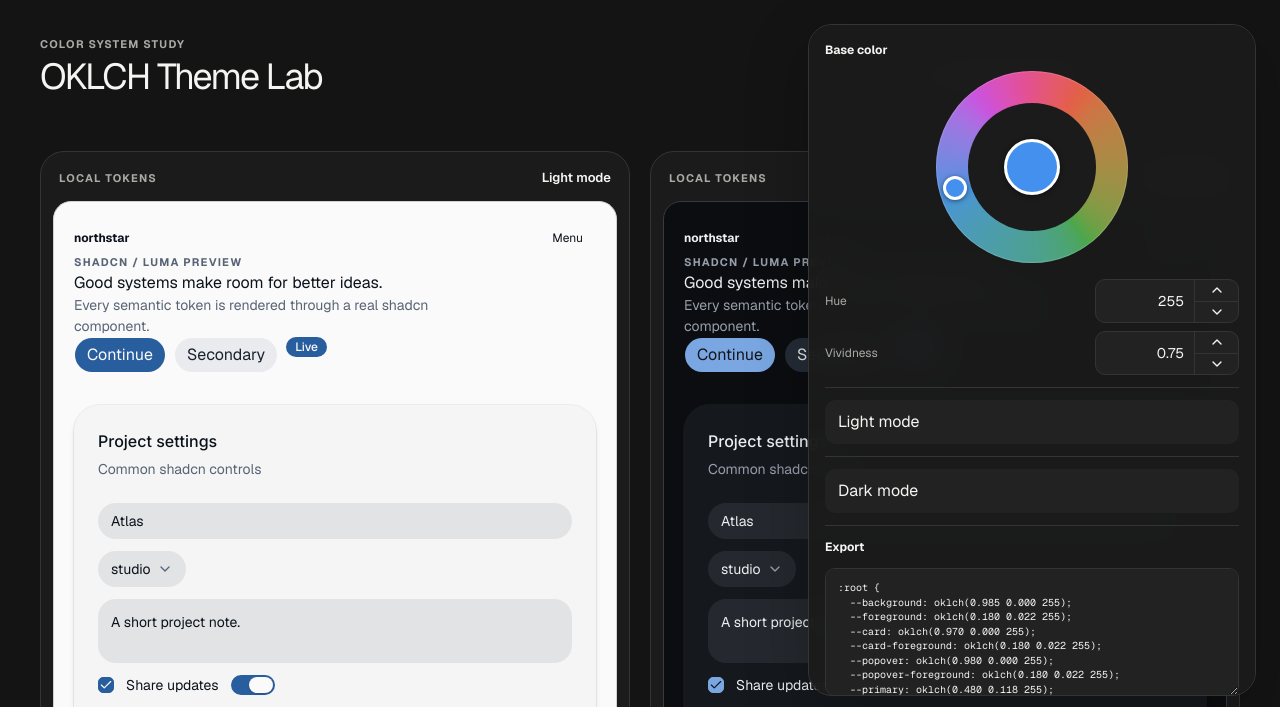
it: resets edited values to the documented defaults
Replace the text in the field labelled "Hue" with "120" at {"x": 1145, "y": 301}, box [1096, 280, 1194, 322]
(page scrolled)
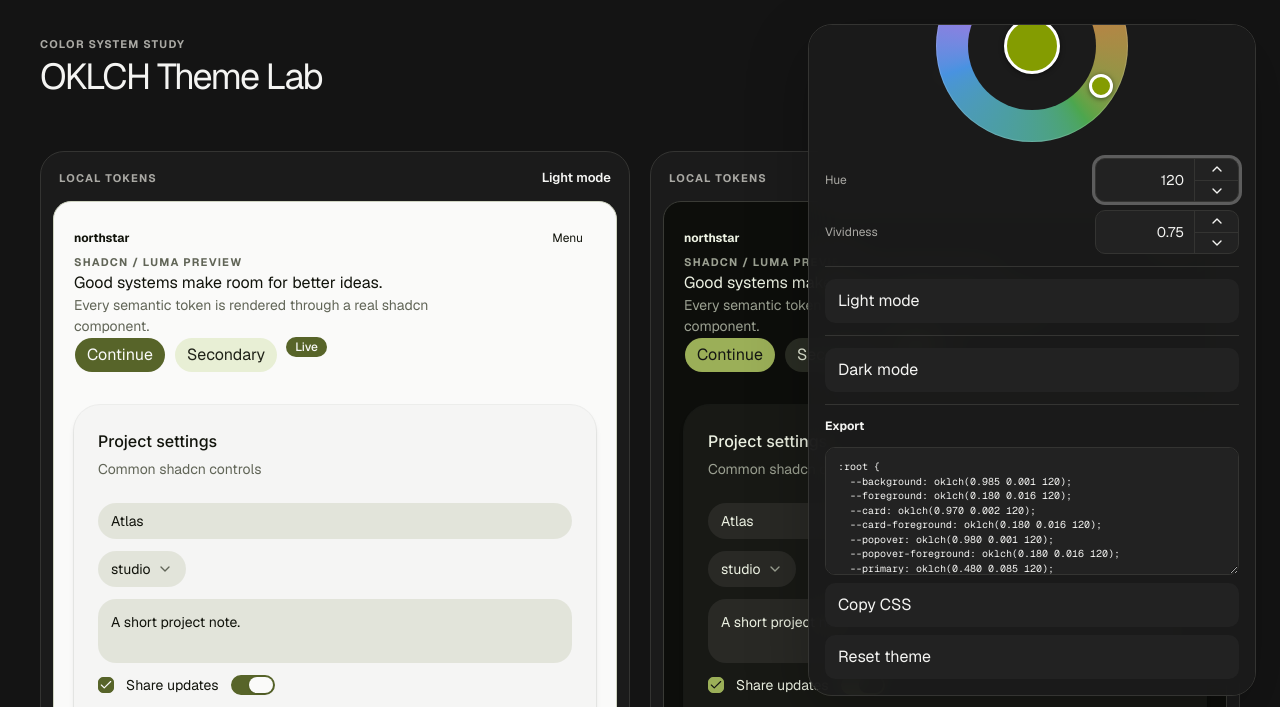
Click the button "Reset theme" at {"x": 885, "y": 656}, box [825, 635, 1239, 679]
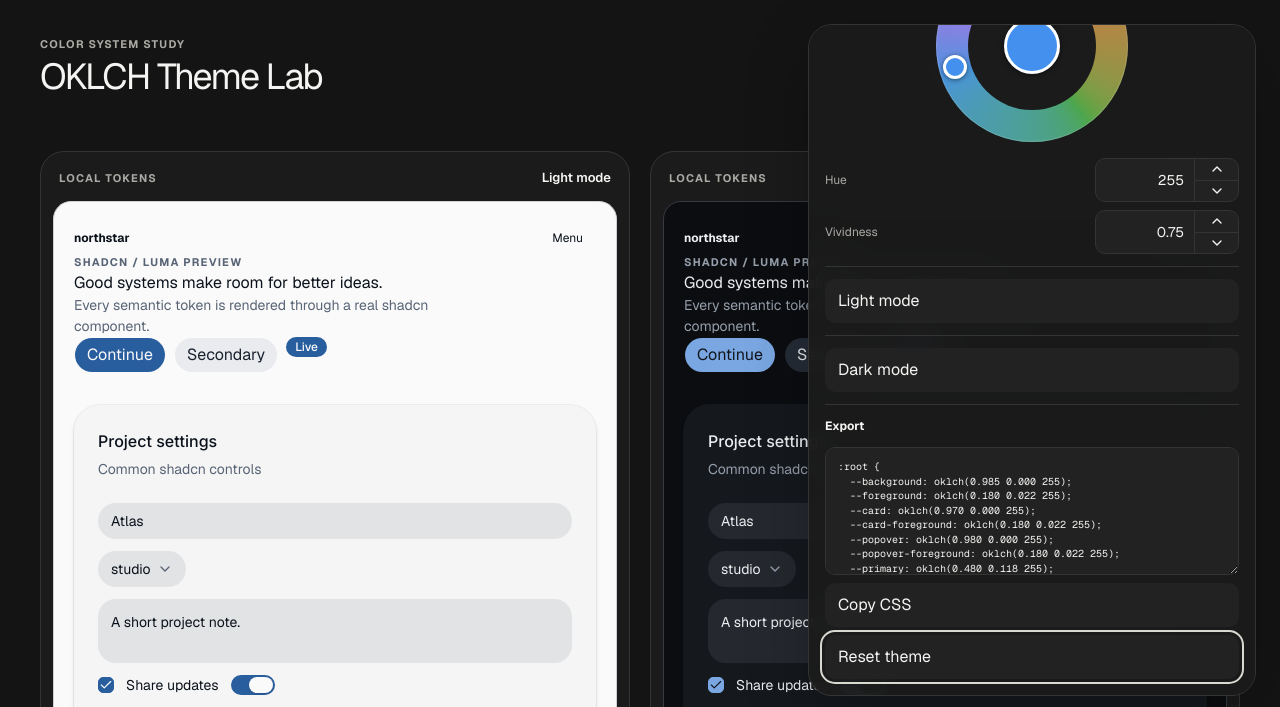
Expected: the field labelled "Hue" holds "255", [1096, 159, 1194, 201]
